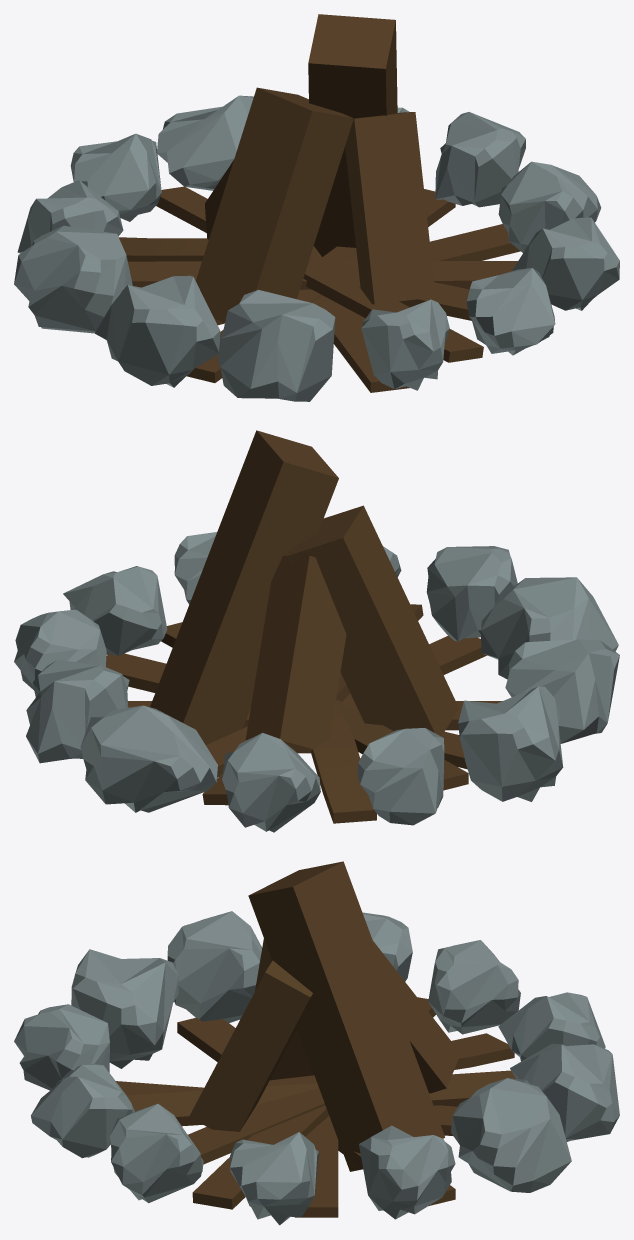
Rendered from SM_campfire.fbx.
The picture shows the model from 3 angles, top to bottom: view 1: azimuth 30°, elevation 25°; view 2: azimuth 150°, elevation 25°; view 3: azimuth 270°, elevation 25°; orthographic projection.
Visible parts, largest first — view 1: campfire; view 2: campfire; view 3: campfire.
Part boxes in pixels (x1,y1,x2,y2): campfire: [14, 14, 619, 401]; campfire: [14, 430, 619, 832]; campfire: [14, 861, 619, 1225].
Size of the model in its own units: 148 by 73.27 by 147.
